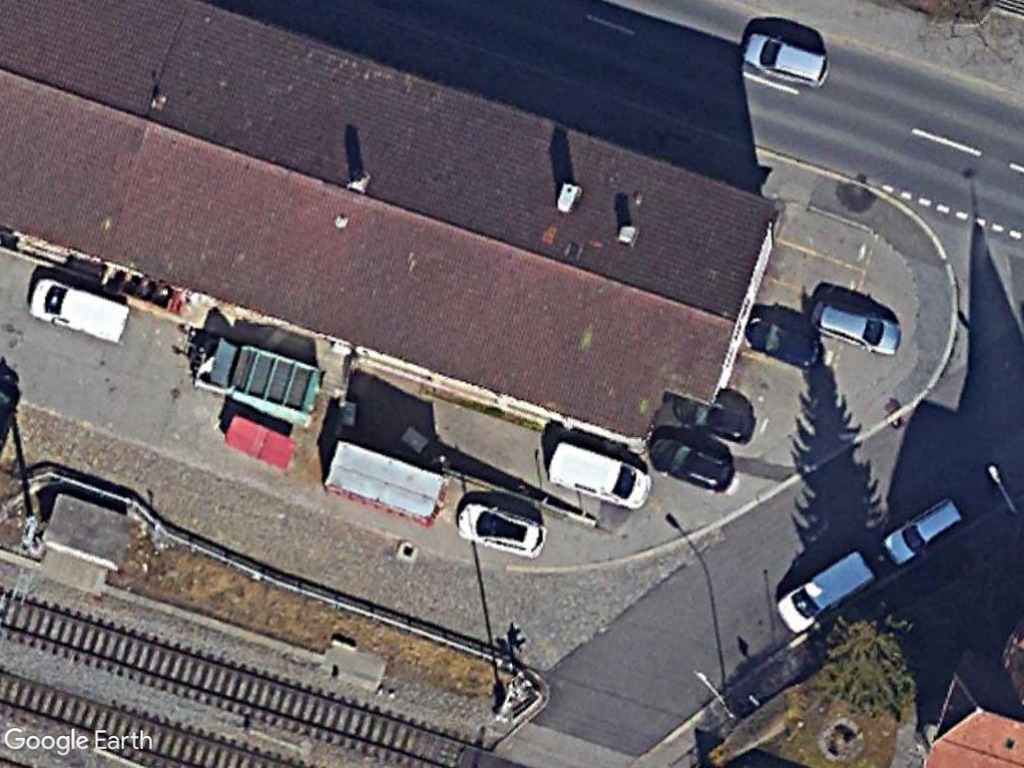car: (806, 298, 904, 360), (455, 502, 550, 561), (882, 498, 964, 565), (738, 32, 831, 89)
van: (771, 548, 877, 634), (28, 274, 134, 347), (546, 440, 654, 511)
